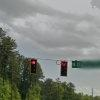Traffic light: (17, 48, 69, 83)
